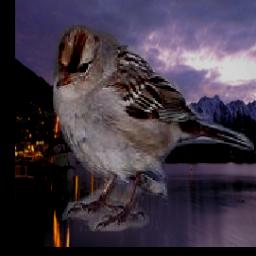Sparrow: (46, 26, 255, 232)
